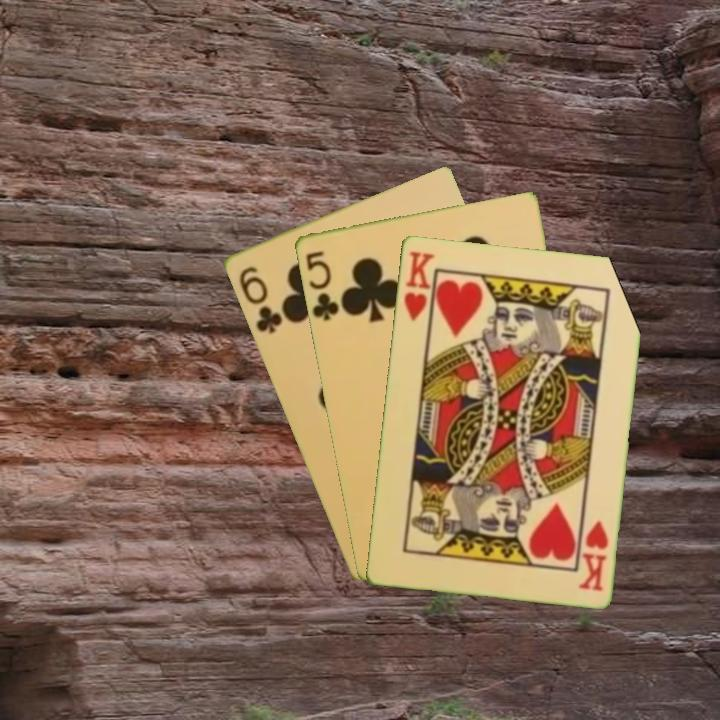5c: (301, 247, 345, 324)
6c: (235, 262, 285, 337)
Kh: (400, 247, 437, 331), (575, 515, 611, 593)
